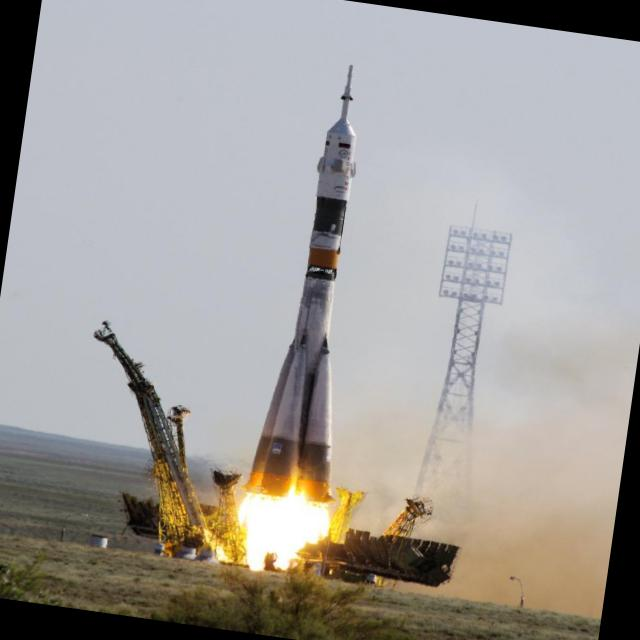rocket: (236, 55, 397, 570)
